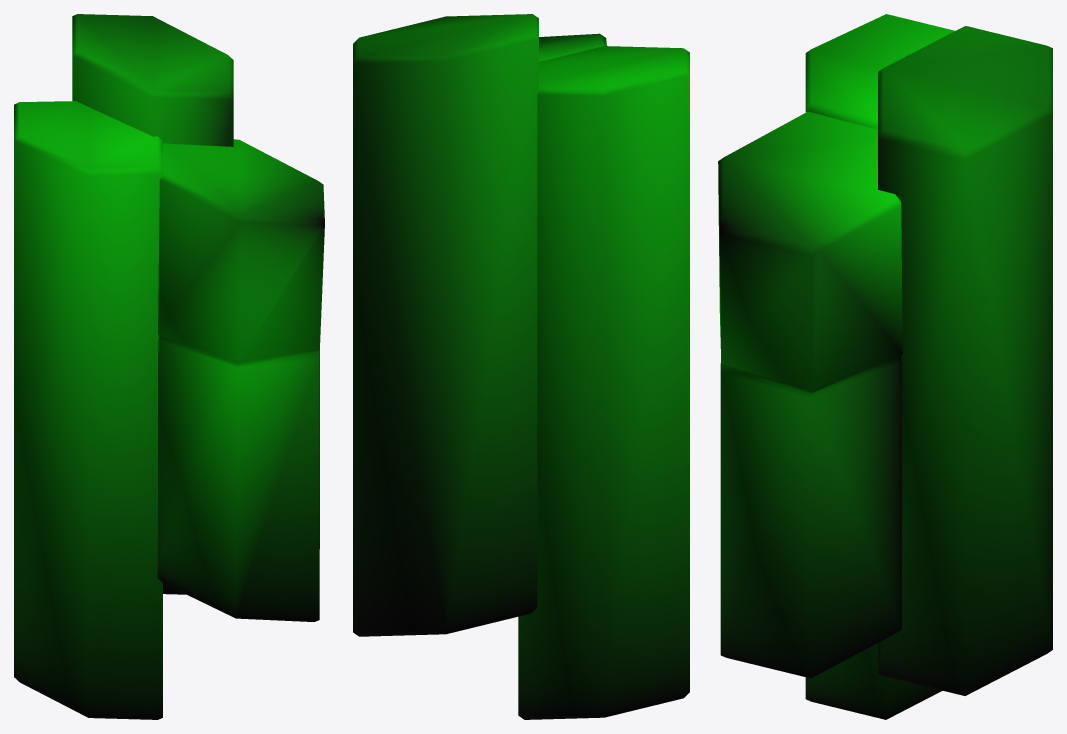
The model's file is SM_RockHexic_RockSlanted02.fbx.
3 renders of one model, left to right at view 1: azimuth 30°, elevation 25°; view 2: azimuth 150°, elevation 25°; view 3: azimuth 270°, elevation 25°, orthographic. The views are drawn at different scales.
Parts seen in each view (by area): view 1: SM_RockHexic_RockSlanted02; view 2: SM_RockHexic_RockSlanted02; view 3: SM_RockHexic_RockSlanted02.
Part boxes in pixels (left/top/right/bottom): SM_RockHexic_RockSlanted02: left=14, top=14, right=324, bottom=719; SM_RockHexic_RockSlanted02: left=353, top=14, right=689, bottom=719; SM_RockHexic_RockSlanted02: left=718, top=14, right=1052, bottom=719.
Size of the model in its own units: 695 by 677 by 1497.
